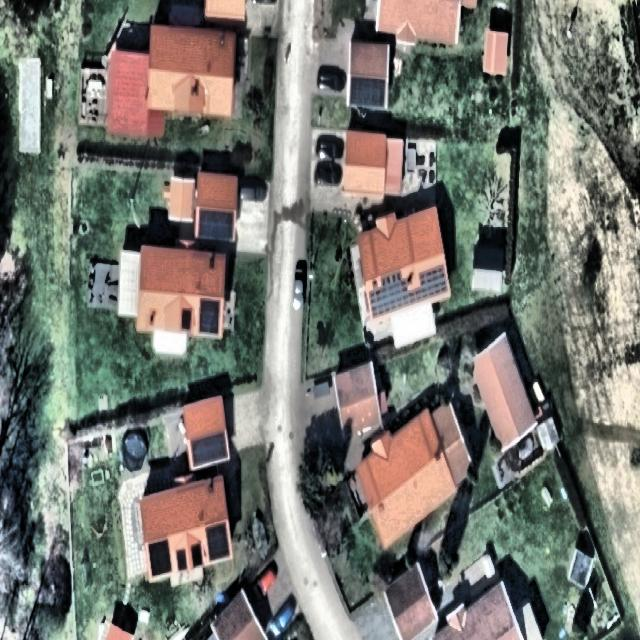roof_pv: (368, 270, 418, 315), (189, 432, 233, 467), (198, 208, 237, 242), (419, 264, 452, 300), (195, 297, 223, 337), (205, 522, 231, 563), (147, 540, 174, 578), (349, 80, 388, 106), (192, 540, 206, 570), (181, 307, 195, 333), (176, 552, 187, 572)
